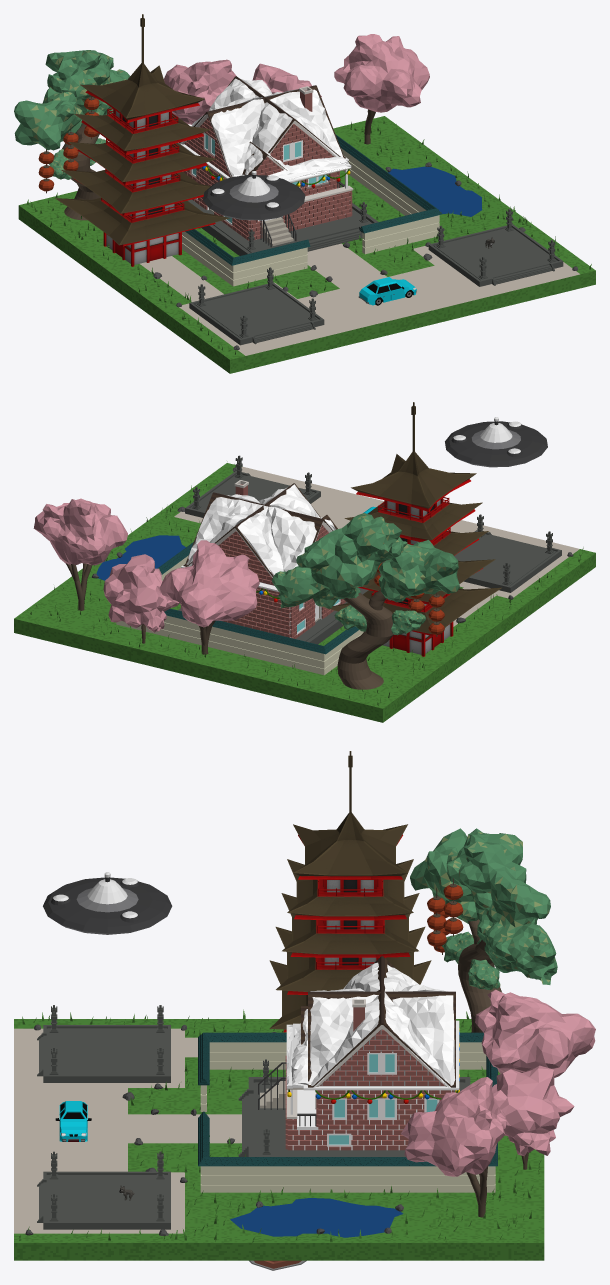
The picture shows the model from 3 angles, top to bottom: view 1: azimuth 30°, elevation 25°; view 2: azimuth 150°, elevation 25°; view 3: azimuth 270°, elevation 25°; orthographic projection. The views are drawn at different scales.
Visible parts, largest first — view 1: Cube.005, Cube.1419, OBJRANDOM_UFO, VEHICLES_CAR; view 2: Cube.005, Cube.1419, OBJRANDOM_UFO; view 3: Cube.005, Cube.1419, OBJRANDOM_UFO, VEHICLES_CAR.
Part boxes in pixels (left/top/right/bottom): Cube.005: left=14, top=14, right=595, bottom=373; Cube.1419: left=178, top=76, right=353, bottom=247; OBJRANDOM_UFO: left=203, top=171, right=305, bottom=220; VEHICLES_CAR: left=358, top=277, right=416, bottom=305; Cube.005: left=14, top=402, right=595, bottom=722; Cube.1419: left=181, top=480, right=345, bottom=638; OBJRANDOM_UFO: left=445, top=417, right=547, bottom=467; Cube.005: left=14, top=751, right=595, bottom=1260; Cube.1419: left=258, top=956, right=459, bottom=1150; OBJRANDOM_UFO: left=43, top=872, right=172, bottom=934; VEHICLES_CAR: left=55, top=1101, right=91, bottom=1141.
Bounding box in the file's own units: 4528 × 3406 × 4389.
52 materials, 5 textured.
